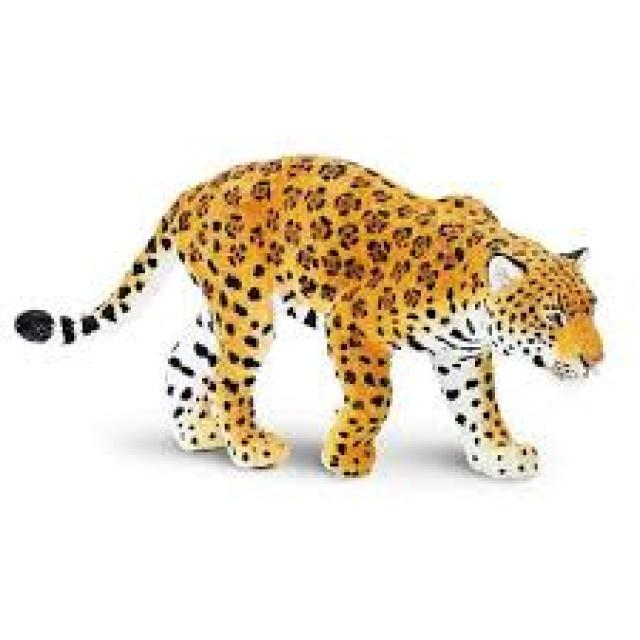Jaguar: (6, 140, 617, 500)
